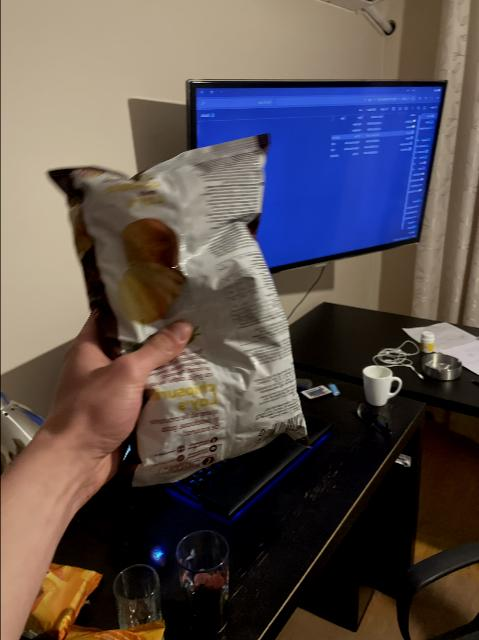Chio Cascaval 125g: (22, 558, 102, 640)
Lays Beef Grilled Ribs 125g: (46, 132, 308, 494)
